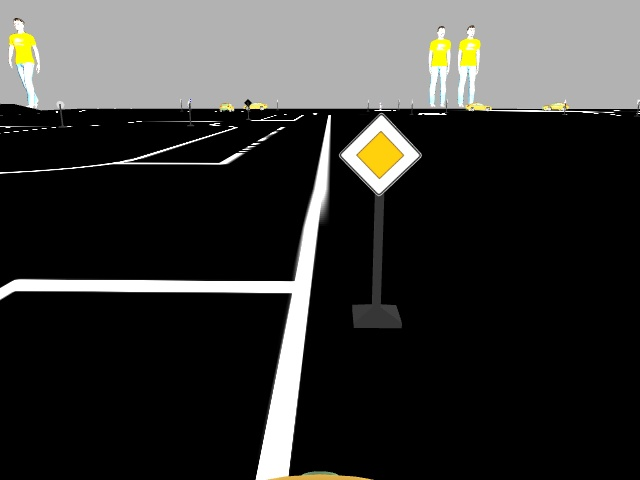Priority: (340, 111, 423, 193)
